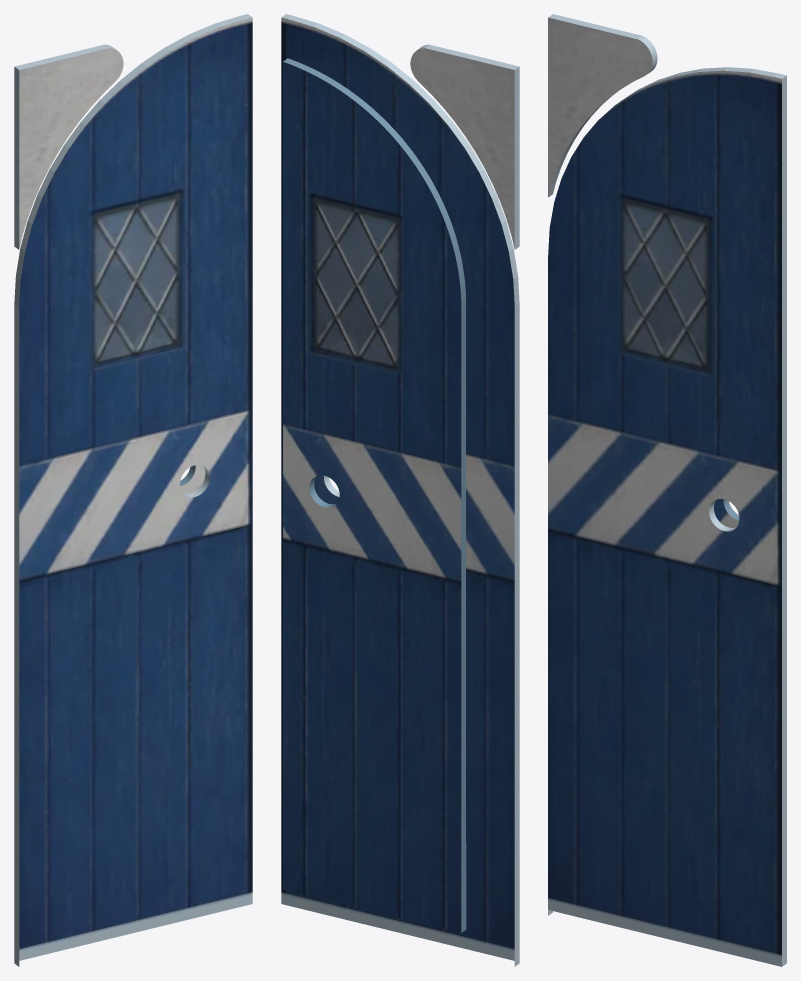
The model's file is left-leaf.glb.
The picture shows the model from 3 angles, left to right: view 1: azimuth 30°, elevation 25°; view 2: azimuth 150°, elevation 25°; view 3: azimuth 330°, elevation 25°; orthographic projection.
Parts seen in each view (by area): view 1: left-leaf; view 2: left-leaf; view 3: left-leaf.
Boxes of the visible parts, left/top/right/bottom form: left-leaf: left=14, top=14, right=252, bottom=966; left-leaf: left=281, top=14, right=519, bottom=966; left-leaf: left=548, top=14, right=786, bottom=966.
Size of the model in its own units: 252 by 925 by 36.
4 materials, 2 textured.
